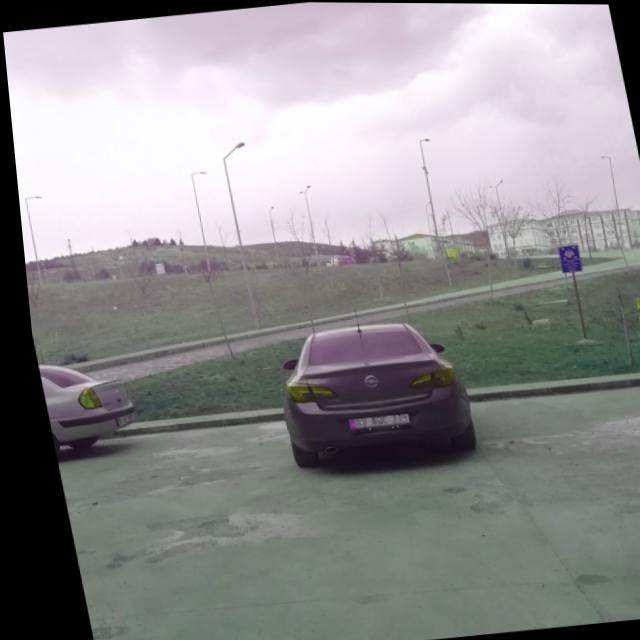license_plate: (339, 413, 402, 431)
